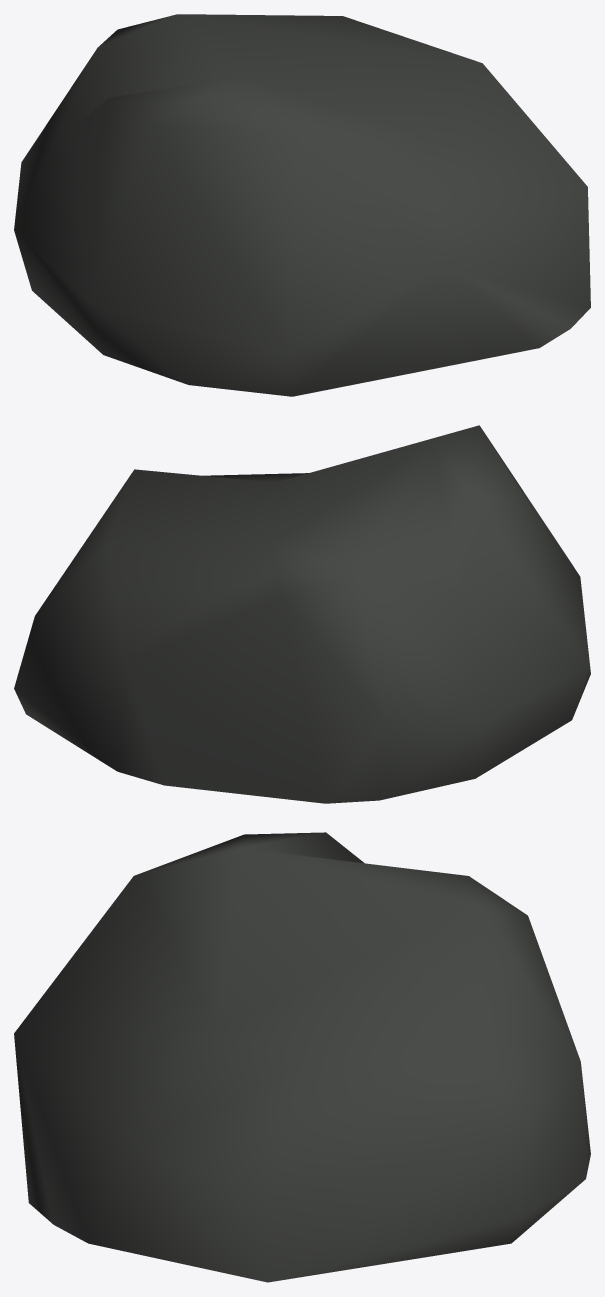
File: soft_beanbag_4.fbx
3 renders of one model, top to bottom at view 1: azimuth 30°, elevation 25°; view 2: azimuth 150°, elevation 25°; view 3: azimuth 270°, elevation 25°, orthographic. The views are drawn at different scales.
Parts seen in each view (by area): view 1: soft_beanbag_4; view 2: soft_beanbag_4; view 3: soft_beanbag_4.
Boxes of the visible parts, box(x1,y1,x2,y2) form: soft_beanbag_4: box(14, 14, 590, 396); soft_beanbag_4: box(14, 425, 590, 803); soft_beanbag_4: box(14, 832, 590, 1282).
Bounding box in the file's own units: 5.52 × 2.55 × 5.23.
